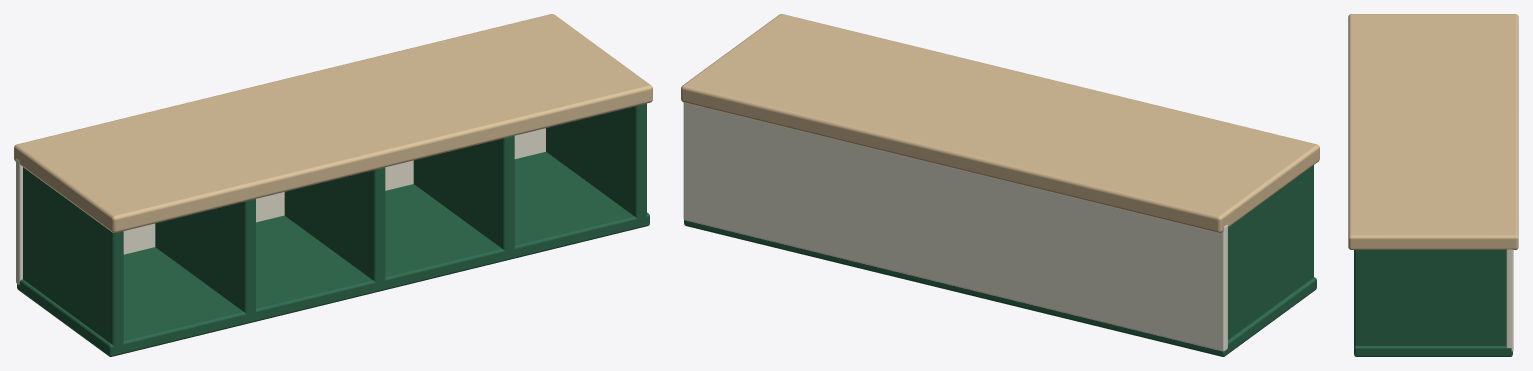
Rendered from cricket-ground-and-pavilion-changing-bench-with-kit-cu-6896232f__31311.glb.
3 renders of one model, left to right at view 1: azimuth 30°, elevation 25°; view 2: azimuth 150°, elevation 25°; view 3: azimuth 270°, elevation 25°, orthographic. The views are drawn at different scales.
Visible parts, largest first — view 1: changing-bench-with-kit-cubbies; view 2: changing-bench-with-kit-cubbies; view 3: changing-bench-with-kit-cubbies.
Part boxes in pixels (bbox=[...]): changing-bench-with-kit-cubbies: bbox=[14, 14, 652, 356]; changing-bench-with-kit-cubbies: bbox=[681, 14, 1319, 356]; changing-bench-with-kit-cubbies: bbox=[1348, 14, 1518, 356].
Bounding box in the file's own units: 1.8 × 0.4549 × 0.5799.
